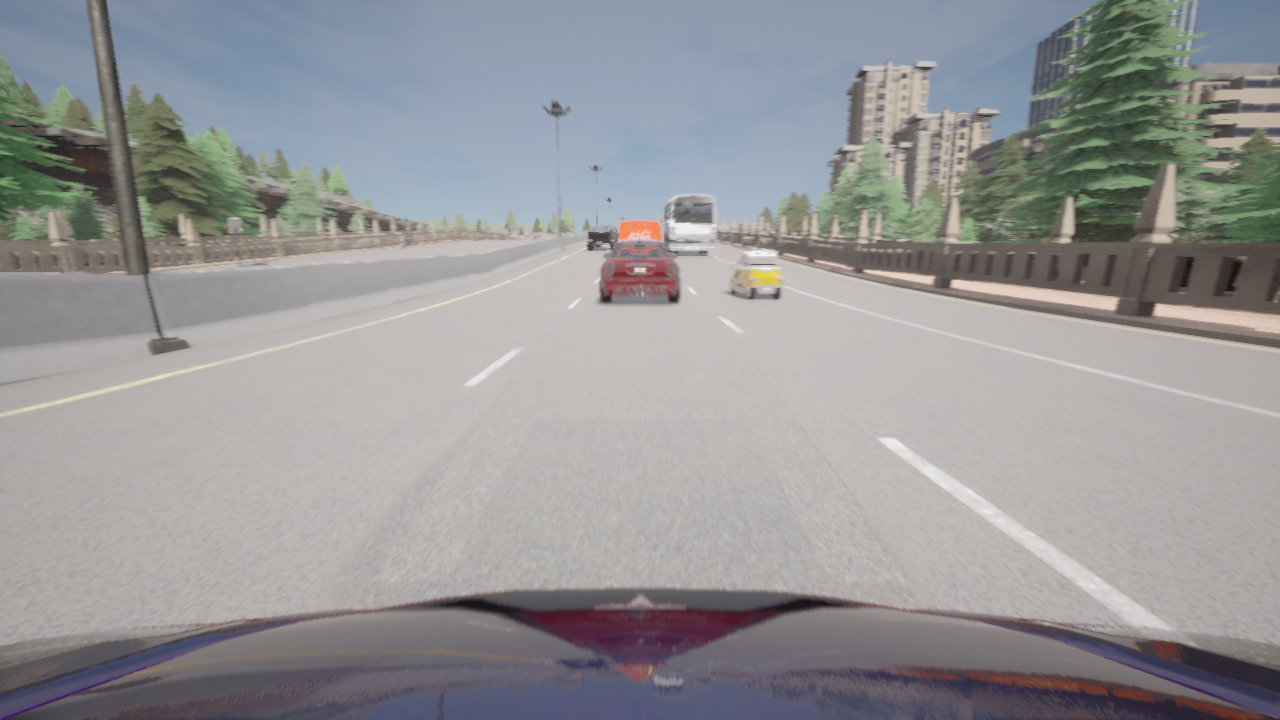cyclist: (0, 588, 1279, 719), (600, 239, 679, 302), (658, 194, 715, 255), (729, 251, 781, 300), (619, 221, 660, 240), (586, 226, 618, 249)
